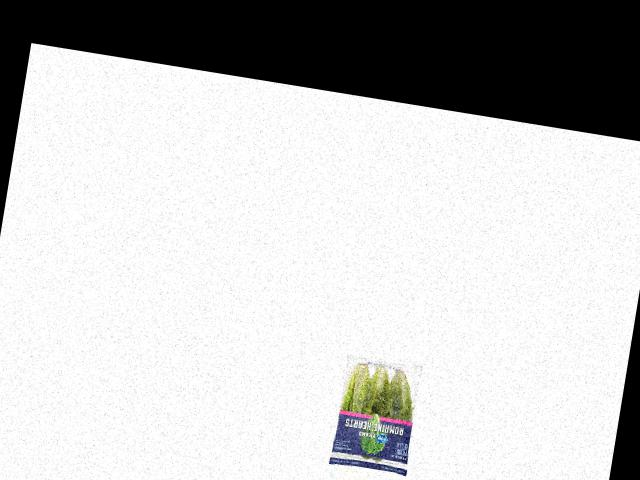lettuce: (325, 356, 426, 474)
